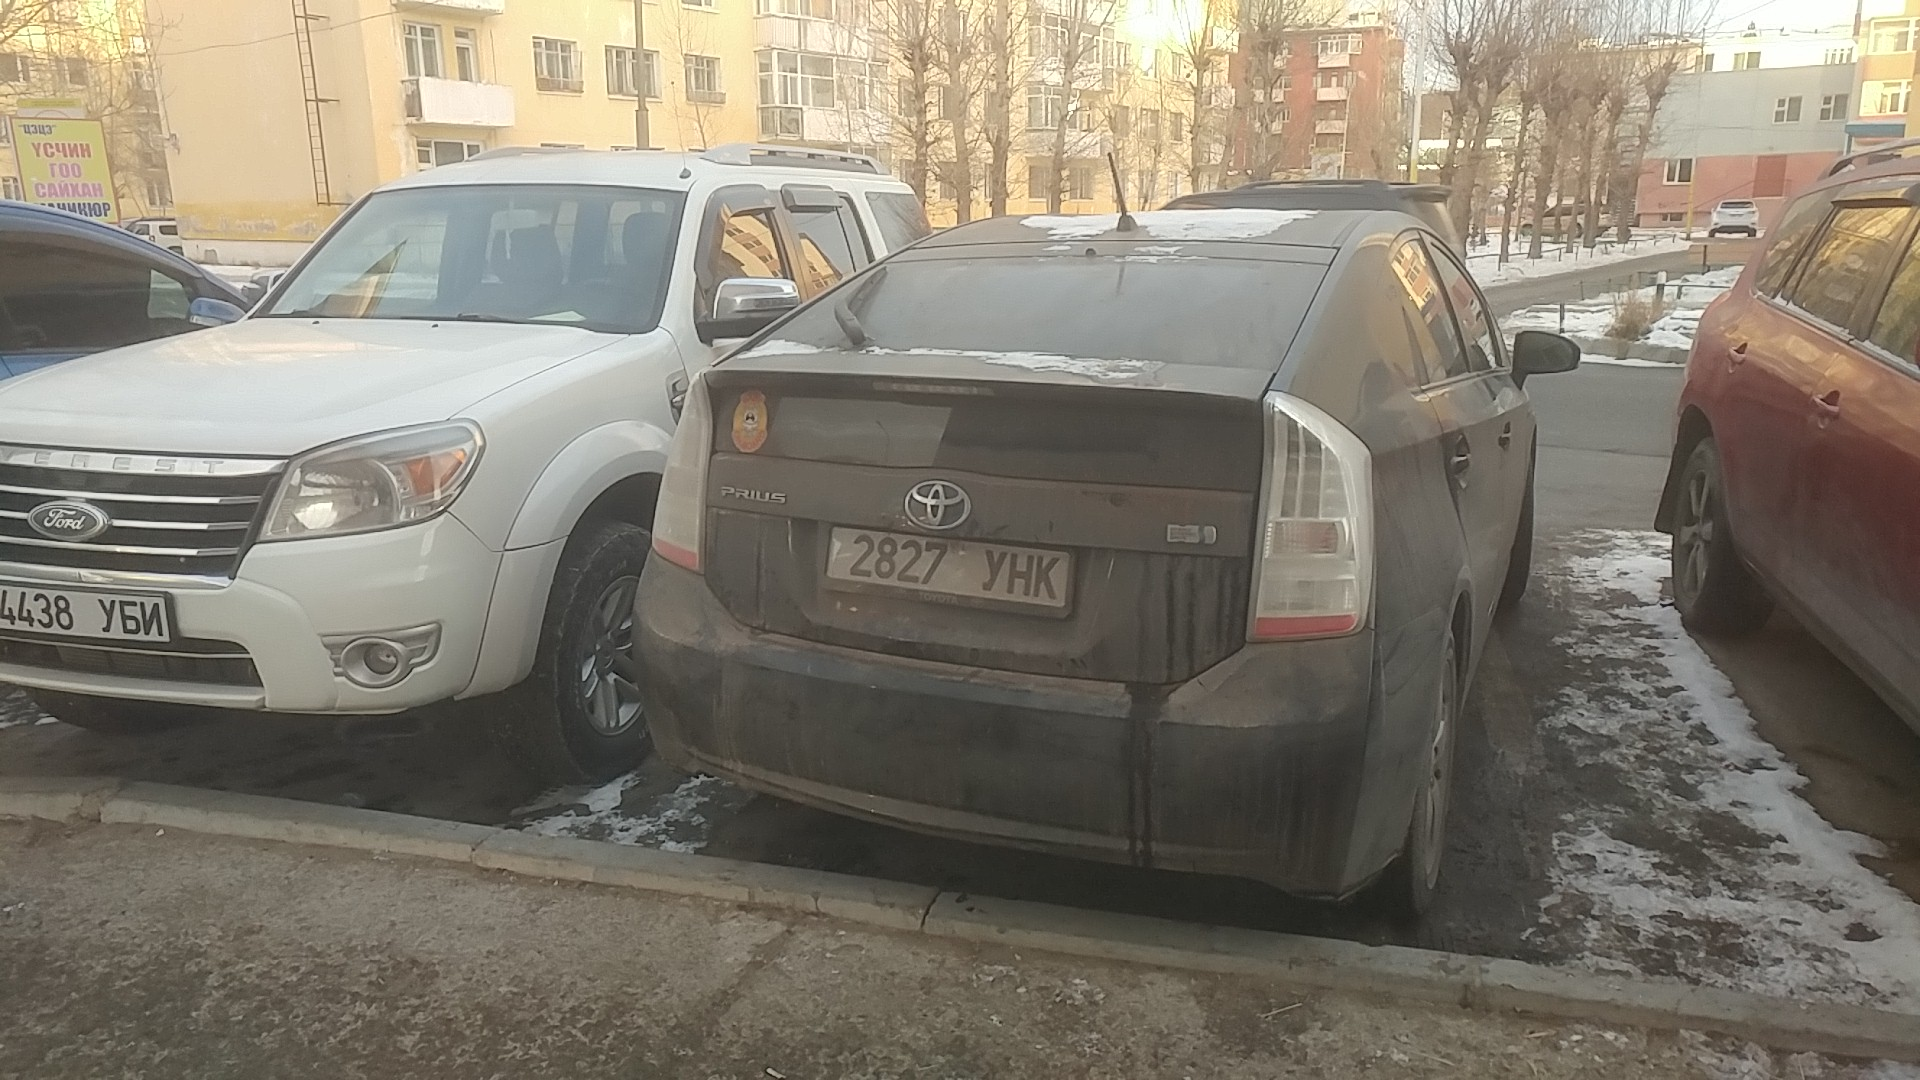2: (850, 532, 873, 578), (898, 538, 921, 583)
3: (34, 592, 54, 628)
4: (17, 590, 35, 626), (1, 589, 18, 625)
7: (921, 539, 949, 584)
8: (874, 535, 897, 580), (53, 593, 75, 630)
b: (117, 598, 142, 635)
i: (140, 599, 167, 639)
k: (1032, 553, 1062, 601)
n: (1006, 550, 1032, 595)
plate: (821, 517, 1075, 618), (1, 581, 178, 644)
u: (981, 547, 1007, 591), (97, 597, 116, 633)
